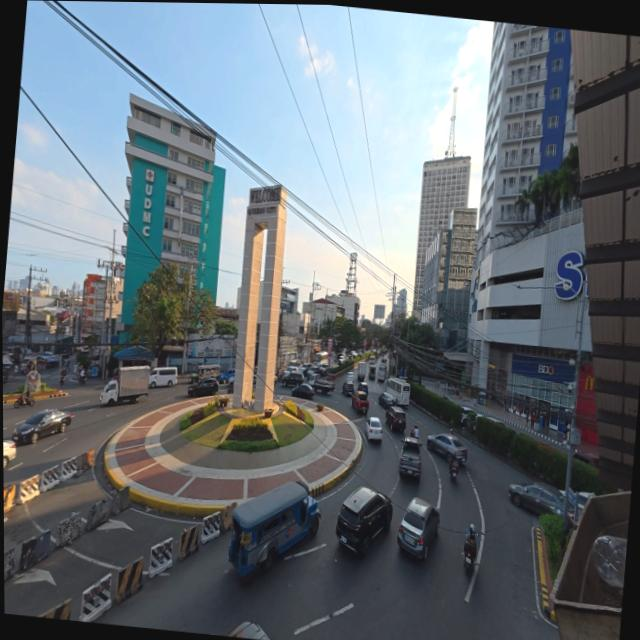car: (330, 486, 393, 566), (394, 492, 444, 562), (423, 430, 467, 464), (365, 415, 386, 444), (3, 440, 16, 473)
trucks: (397, 439, 426, 479)
vans: (149, 365, 180, 390)
